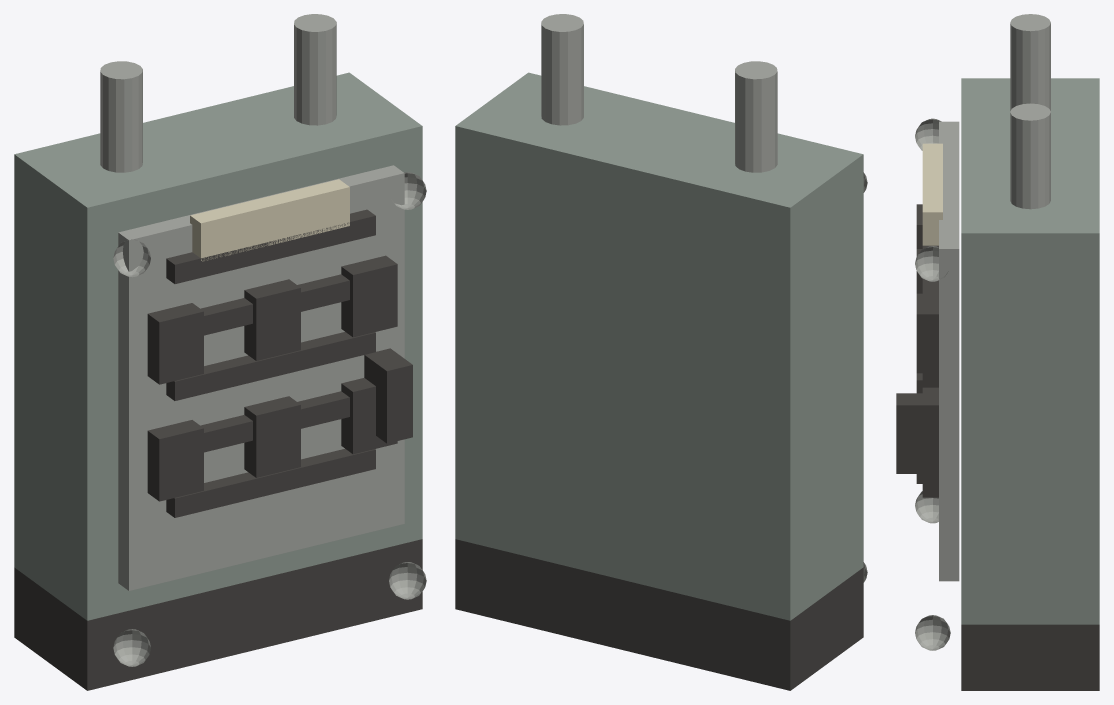
The model's file is signal-house-wall-side-breaker-box__208.glb.
The picture shows the model from 3 angles, left to right: view 1: azimuth 30°, elevation 25°; view 2: azimuth 150°, elevation 25°; view 3: azimuth 270°, elevation 25°; orthographic projection. The views are drawn at different scales.
Visible parts, largest first — view 1: shell, dark, metal, paper; view 2: shell, dark, metal; view 3: shell, metal, dark, paper.
Part boxes in pixels (left/top/right/bottom): shell: left=14, top=72, right=422, bottom=620; dark: left=14, top=209, right=422, bottom=690; metal: left=100, top=14, right=426, bottom=666; paper: left=190, top=179, right=349, bottom=261; shell: left=455, top=72, right=863, bottom=620; dark: left=455, top=539, right=863, bottom=690; metal: left=541, top=14, right=867, bottom=582; shell: left=961, top=78, right=1099, bottom=624; metal: left=915, top=14, right=1050, bottom=650; dark: left=896, top=204, right=1099, bottom=690; paper: left=922, top=143, right=942, bottom=245.
Bounding box in the file's own units: 0.45 × 0.74 × 0.25.
